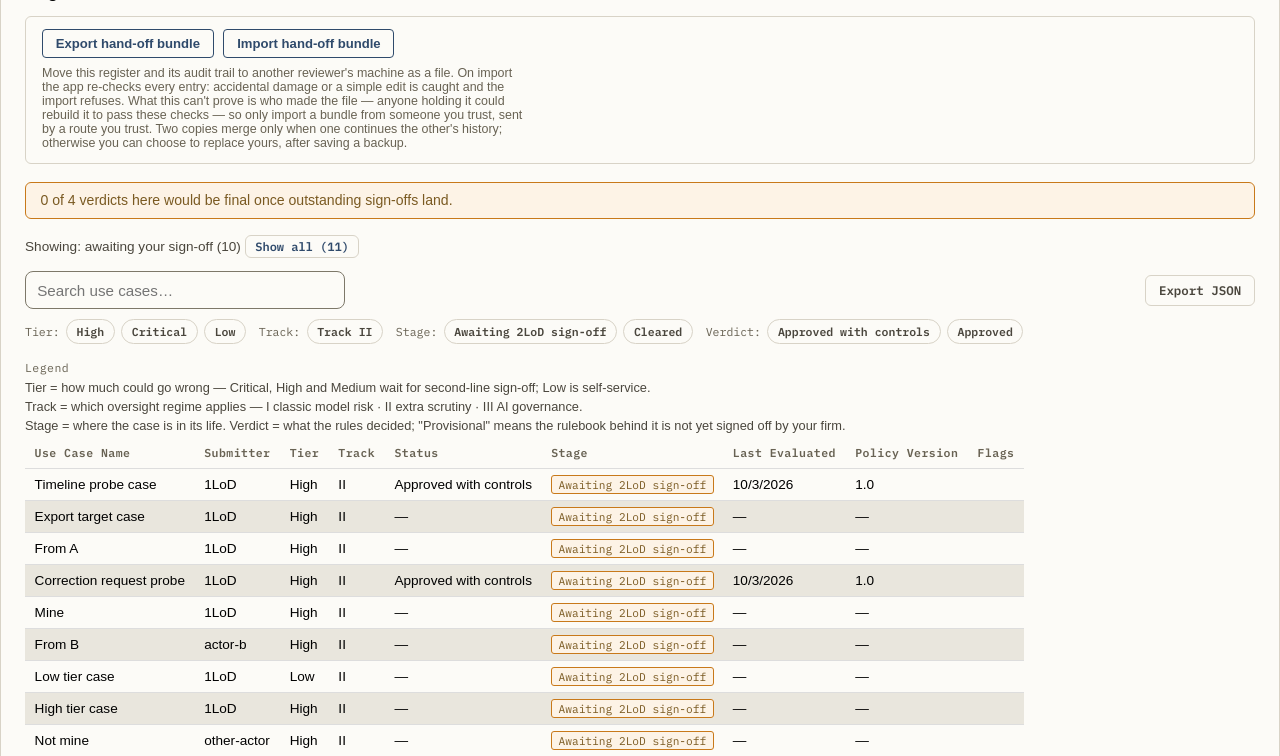
Test: RegisterDetail (V1.2-A) › B5: Request correction appends twoloD_reviewed (correction_requested, with notes) only — stage unchanged
Click the button "Correction request probe".
click(110, 580)  # box x1=35 y1=573 x2=185 y2=588
(page scrolled)
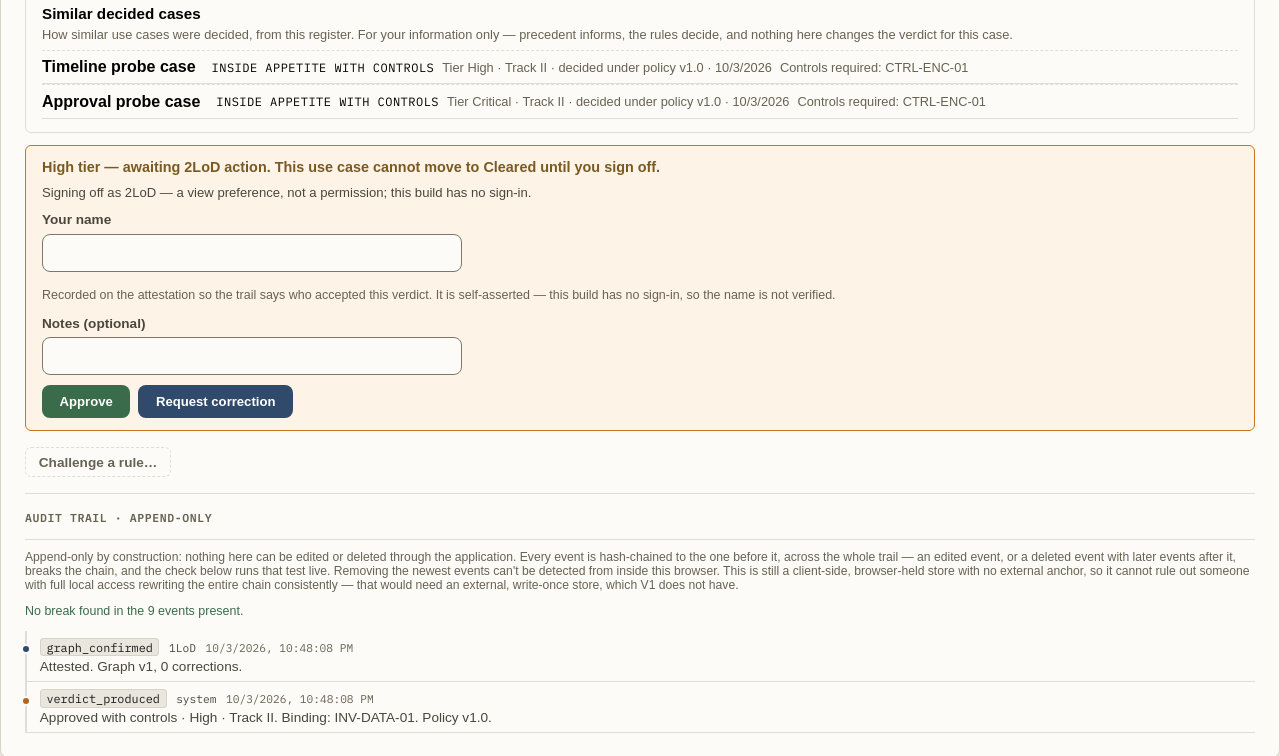
Type "Zone looks wrong" into the field labelled "Notes (optional)".
click(252, 356); type("Zone looks wrong")  # box x1=42 y1=337 x2=462 y2=375
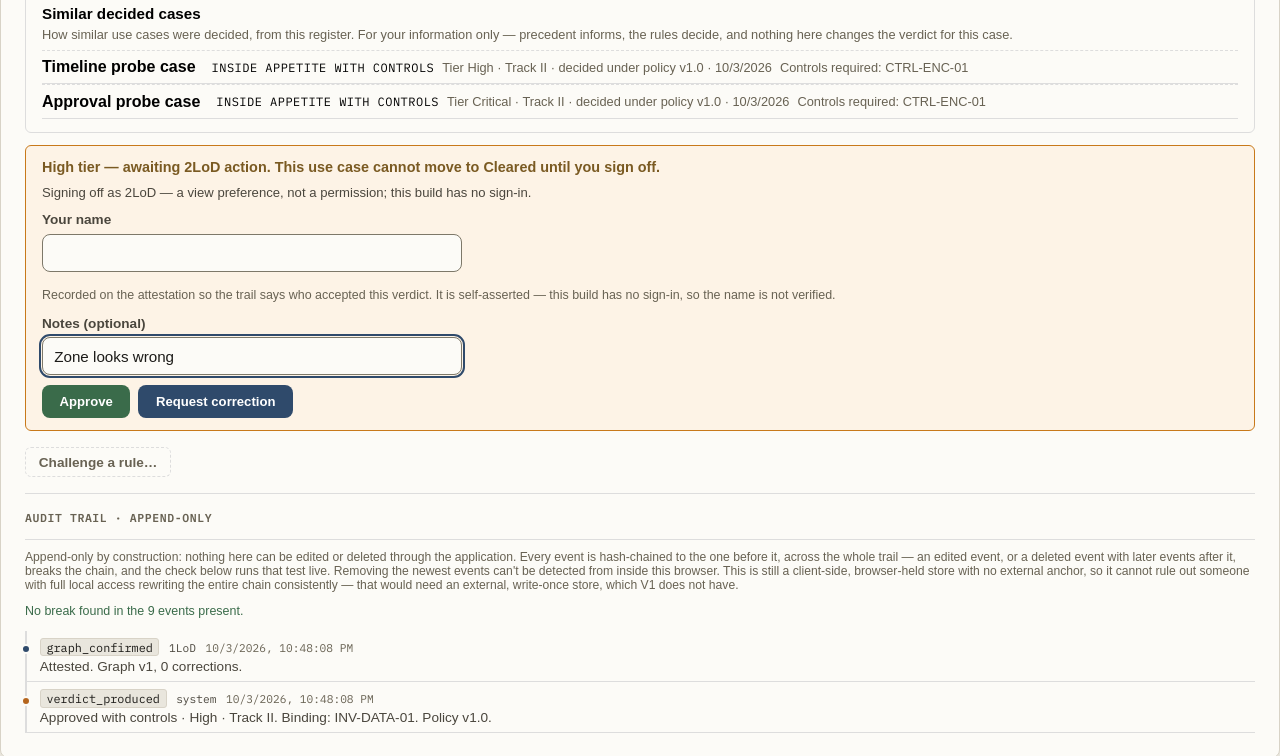
Type "Priya Nair" into the field labelled "Your name".
click(252, 253); type("Priya Nair")  # box x1=42 y1=234 x2=462 y2=272
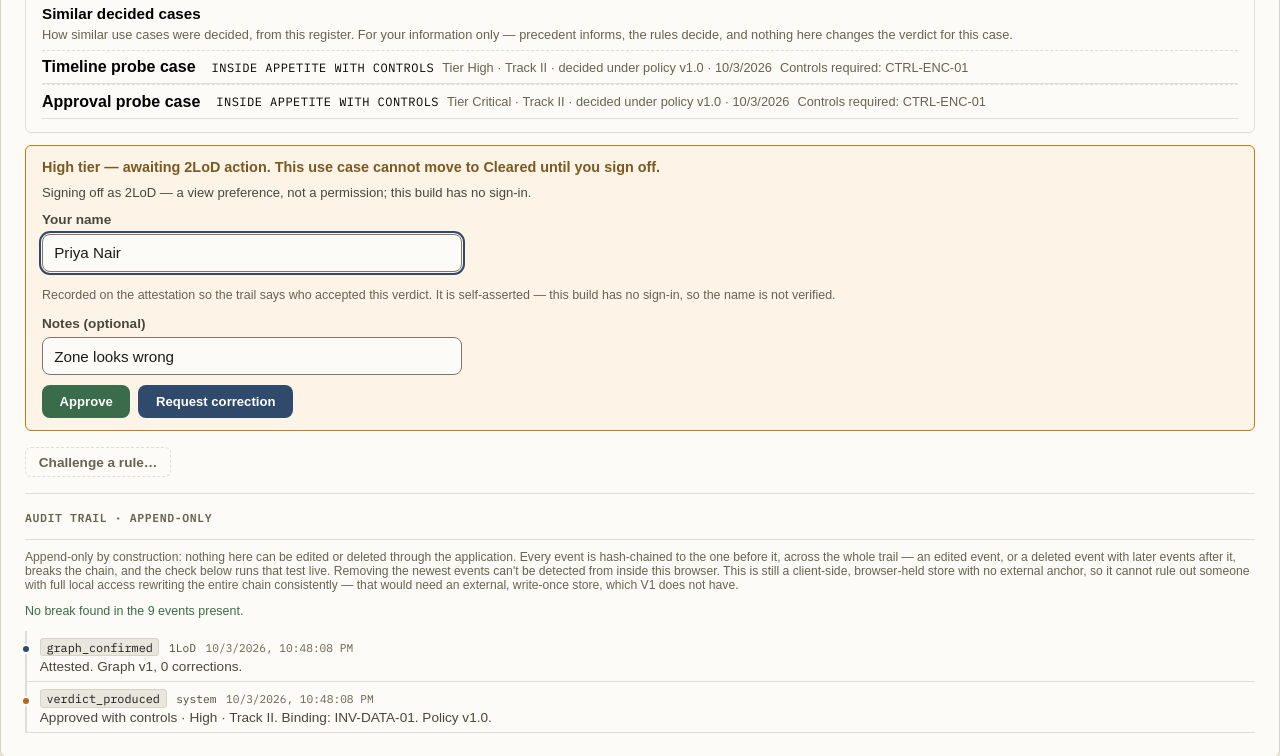
Click the button "Request correction".
click(216, 401)  # box x1=138 y1=385 x2=293 y2=418
(page scrolled)
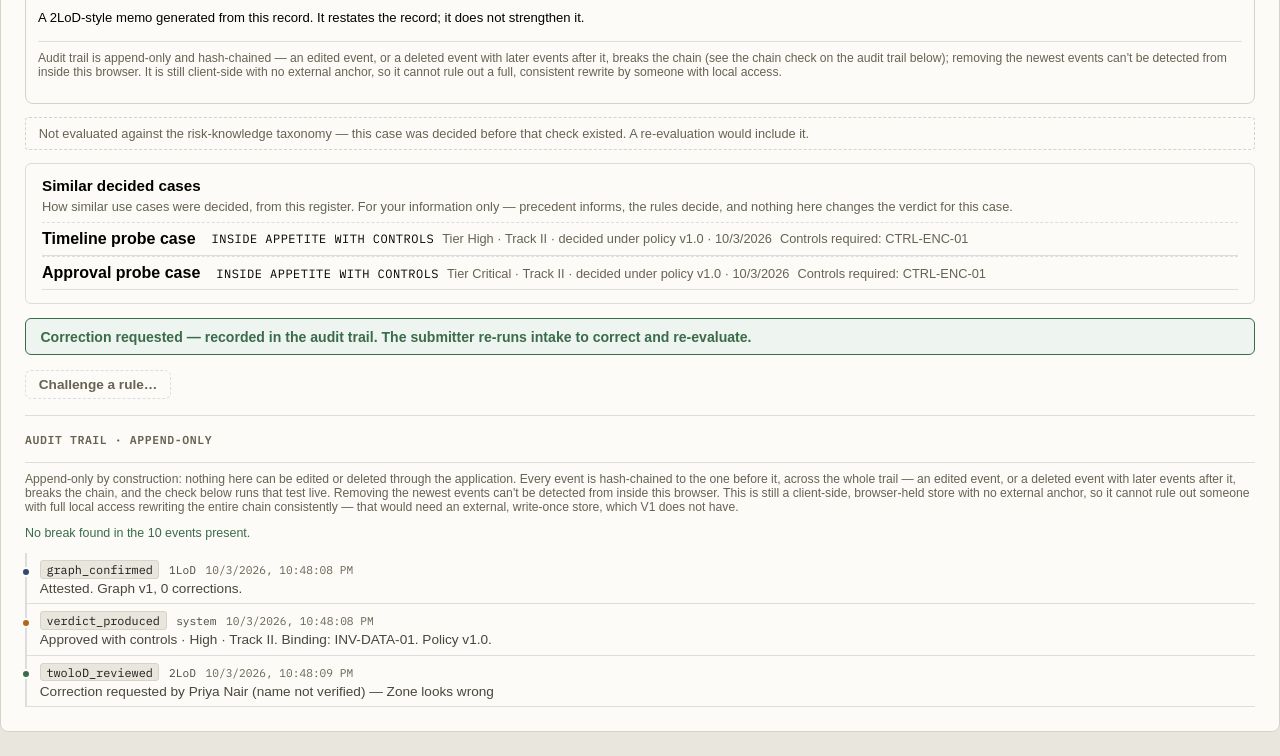
Now the text "Correction requested — recorded in the audit trail" is shown, box x1=40 y1=329 x2=752 y2=345
